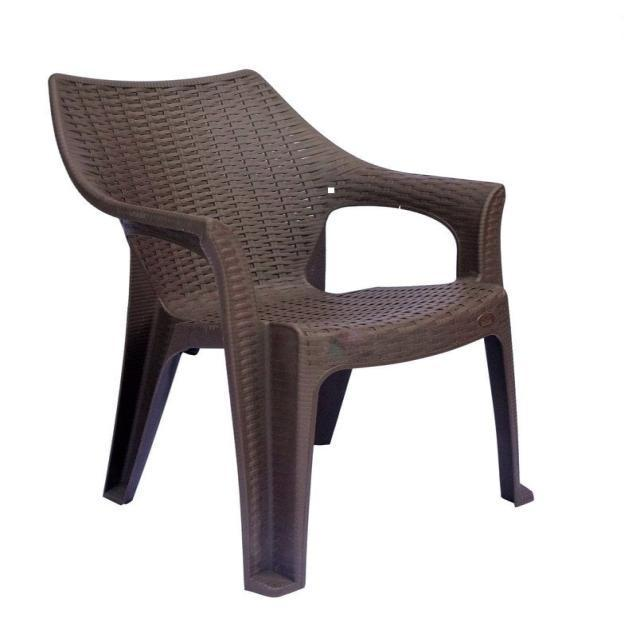chair: (44, 70, 547, 598)
